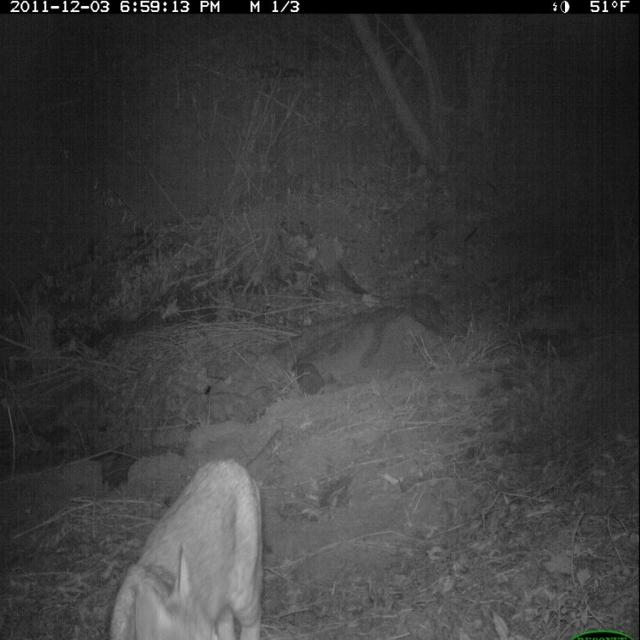bobcat: (107, 435, 284, 640)
